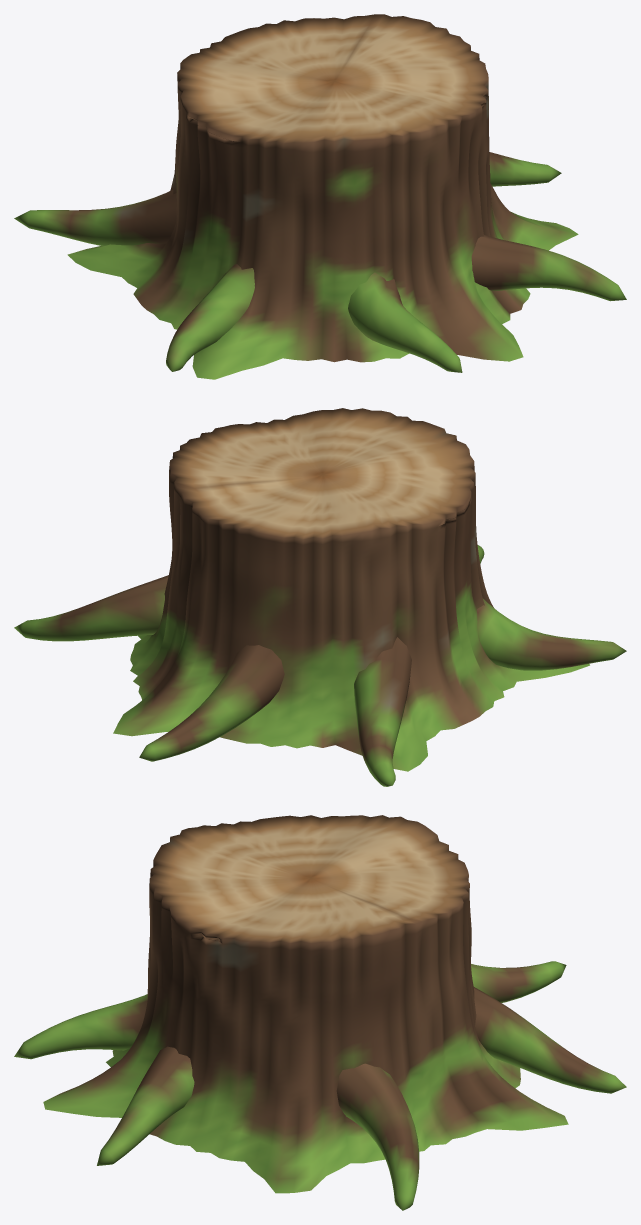
The model's file is Stump.fbx.
The picture shows the model from 3 angles, top to bottom: view 1: azimuth 30°, elevation 25°; view 2: azimuth 150°, elevation 25°; view 3: azimuth 270°, elevation 25°; orthographic projection. The views are drawn at different scales.
Parts seen in each view (by area): view 1: Stump; view 2: Stump; view 3: Stump.
Boxes of the visible parts, left/top/right/bottom form: Stump: left=14, top=14, right=626, bottom=379; Stump: left=14, top=408, right=626, bottom=786; Stump: left=14, top=815, right=626, bottom=1210.
Bounding box in the file's own units: 28.36 × 10.81 × 28.75.
